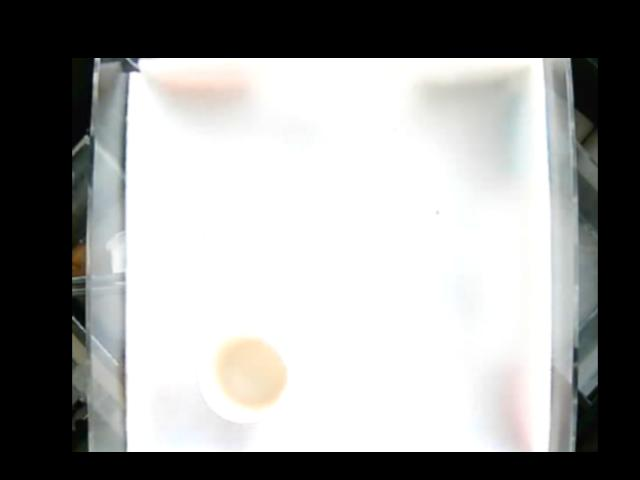Cup: (197, 328, 292, 422)
